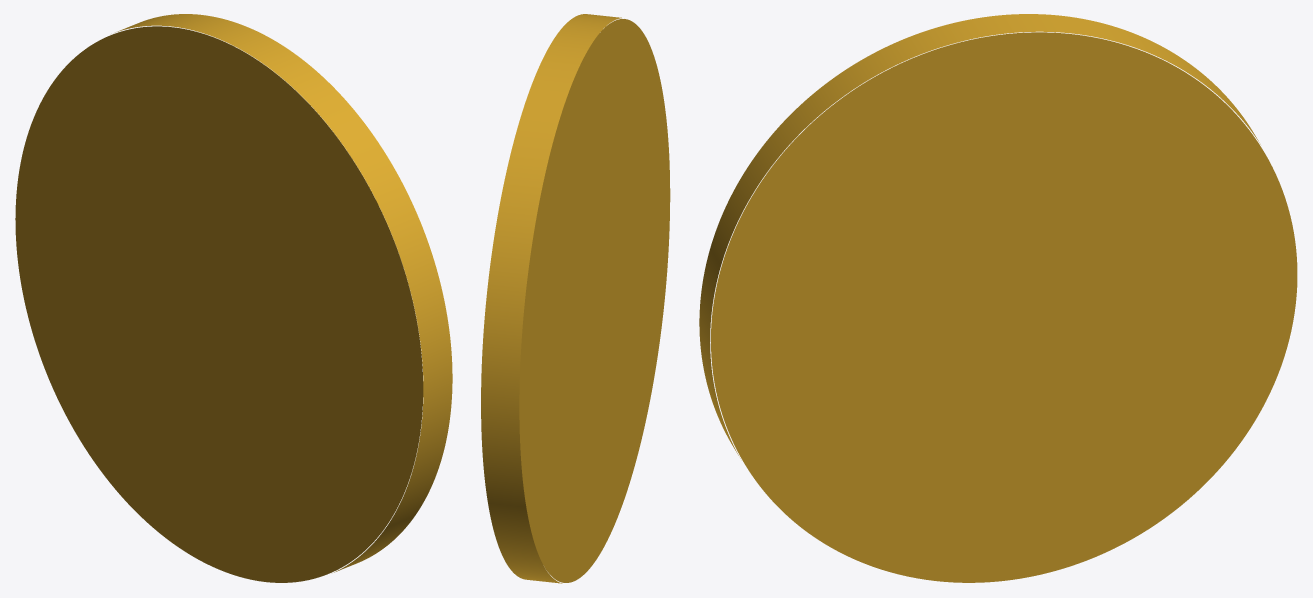
Rendered from gold-coin.glb.
3 renders of one model, left to right at view 1: azimuth 30°, elevation 25°; view 2: azimuth 150°, elevation 25°; view 3: azimuth 270°, elevation 25°, orthographic. The views are drawn at different scales.
Visible parts, largest first — view 1: reverse_tails, rim_reeded; view 2: reverse_tails, rim_reeded; view 3: obverse_heads, rim_reeded.
Boxes of the visible parts, <box> form: reverse_tails: <box>15,26,423,582</box>; rim_reeded: <box>115,14,452,572</box>; reverse_tails: <box>519,19,670,582</box>; rim_reeded: <box>481,14,621,583</box>; obverse_heads: <box>711,32,1297,582</box>; rim_reeded: <box>699,14,1260,458</box>.
Size of the model in its own units: 0.3193 by 1 by 0.9855.
